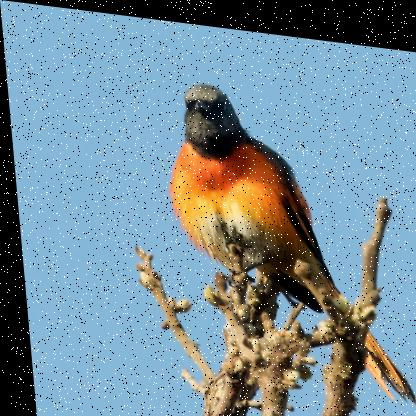Burung: (158, 75, 410, 394)
